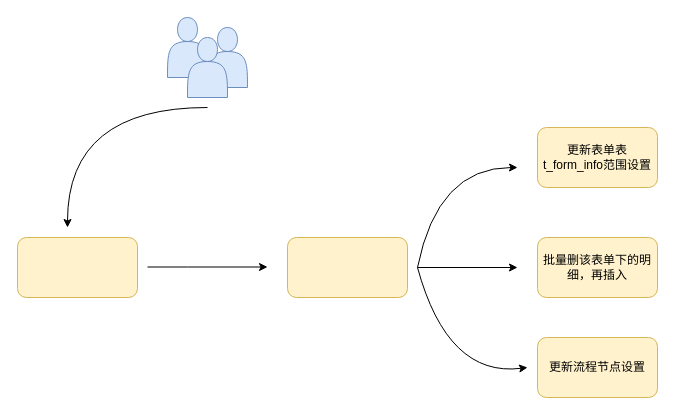
The diagram is 675 pixels wide and 415 high, and some of its shapes have lost their labels. The centre of each missing label's shape, as x and y in pixels:
前端传入表单明细、范围设置、流程节点填写设置: [347,267]
填写完表单配置，点击保存按钮: [77,267]
